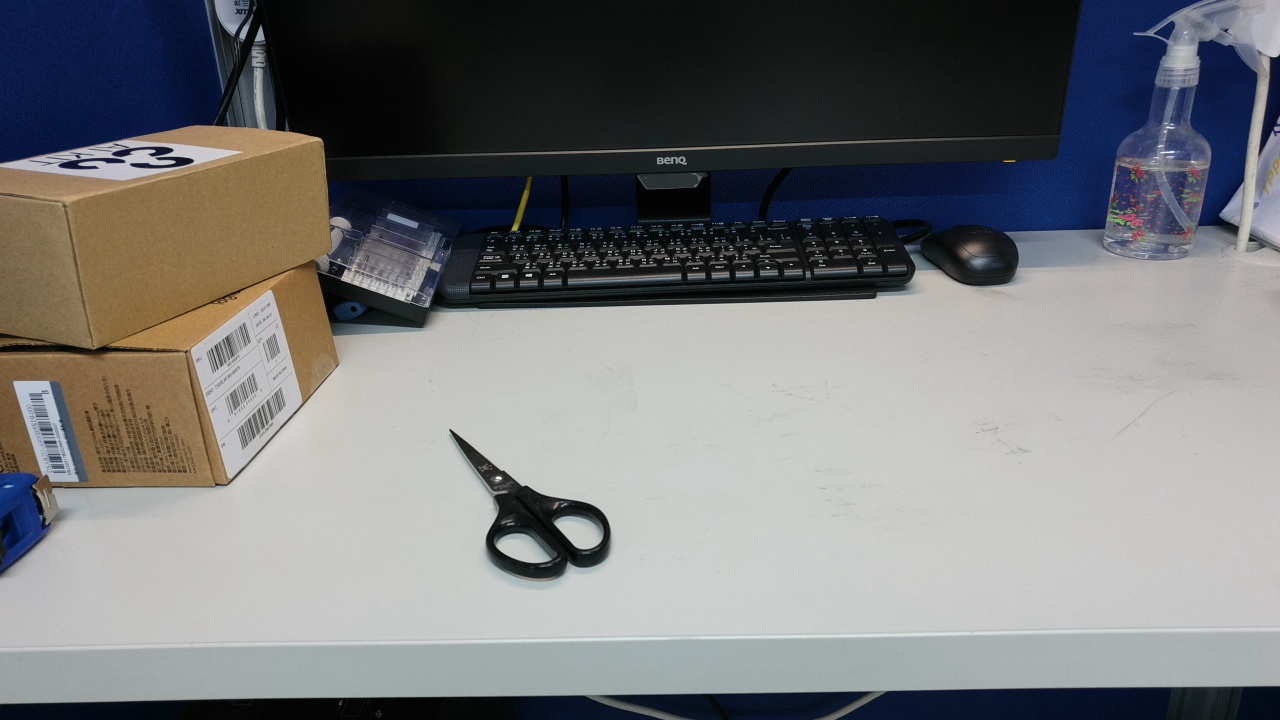blade: (820, 502, 964, 585)
grasp: (934, 565, 1137, 694)
